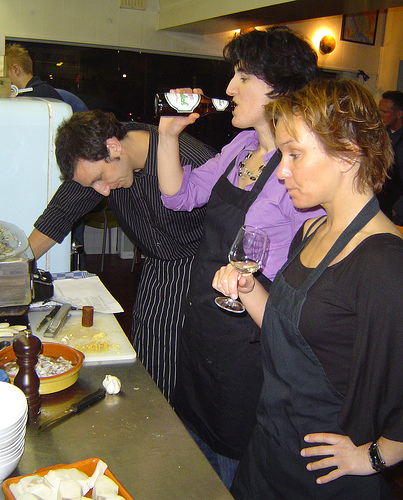without_mask: (273, 105, 359, 215), (218, 44, 312, 132), (62, 120, 141, 200), (377, 86, 403, 132)
